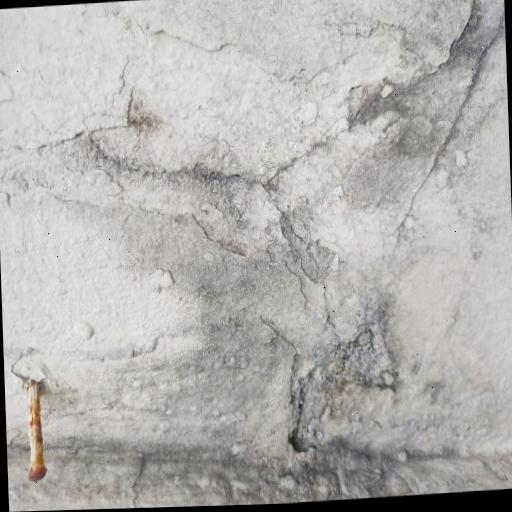exposed_rebar: (27, 378, 46, 482)
